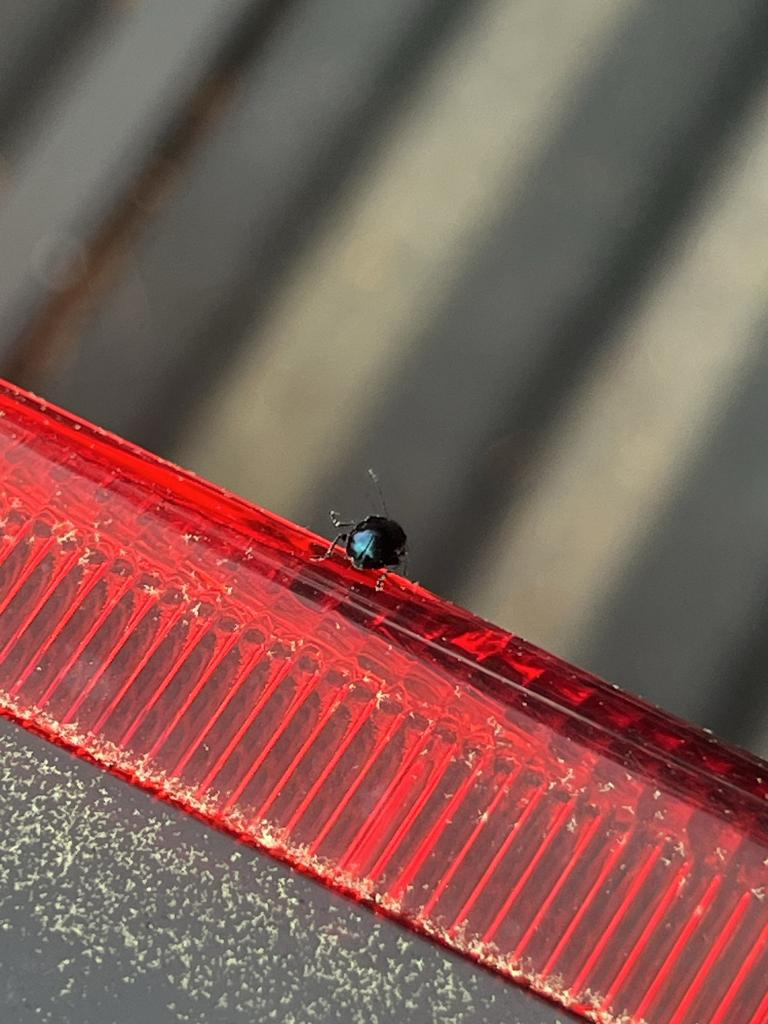flea_beetle: (269, 432, 457, 622)
